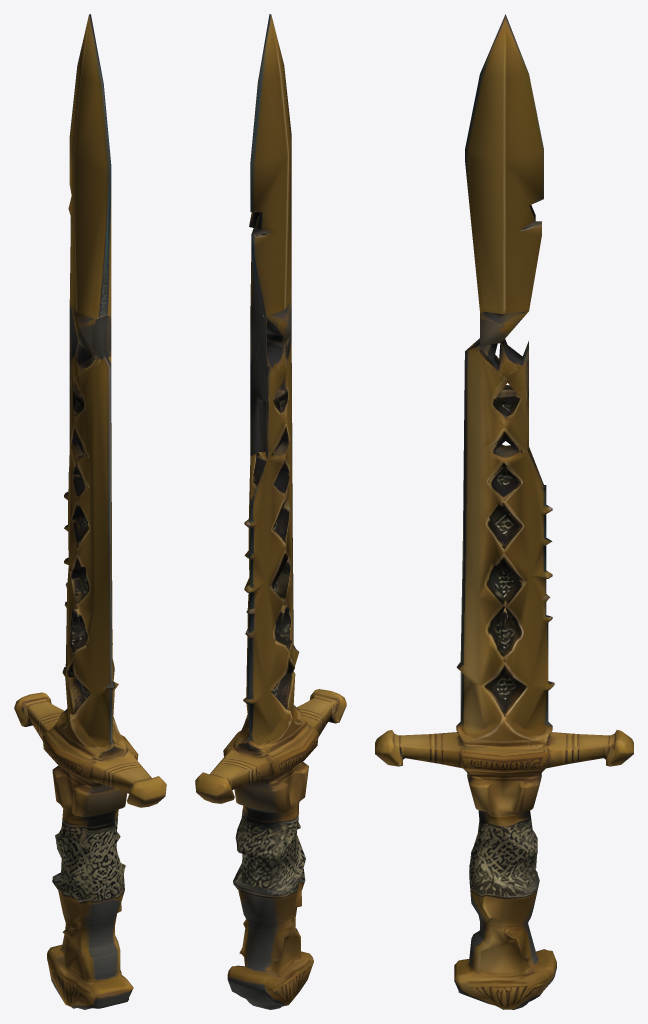
The model's file is boarspine_shortsword.glb.
The picture shows the model from 3 angles, left to right: view 1: azimuth 30°, elevation 25°; view 2: azimuth 150°, elevation 25°; view 3: azimuth 270°, elevation 25°; orthographic projection.
Visible parts, largest first — view 1: base_model_path; view 2: base_model_path; view 3: base_model_path.
Part boxes in pixels (<box>): base_model_path: <box>14,14,166,1009</box>; base_model_path: <box>195,14,346,1009</box>; base_model_path: <box>375,14,633,1009</box>.
Size of the model in its own units: 0.0724 by 0.9995 by 0.2367.
Materials: 1 (1 with a texture image).
